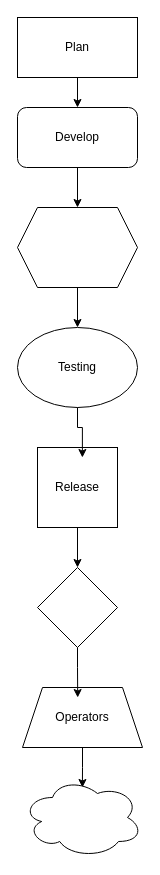
Some shapes in this 160 by 875 pixel diagram are drawn without their labels. The centre of each missing label's shape, as x and y in pixels:
"Compiling" belongs at (x=77, y=247).
"Deployment" belongs at (x=77, y=607).
"Monitor" belongs at (x=82, y=817).
